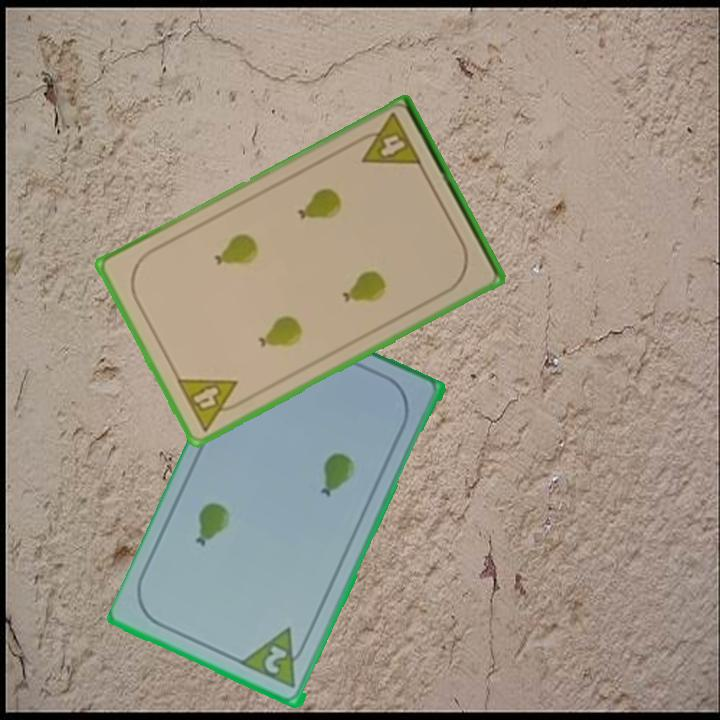2p: (261, 642, 291, 678)
4p: (173, 374, 250, 435), (350, 110, 425, 170)
